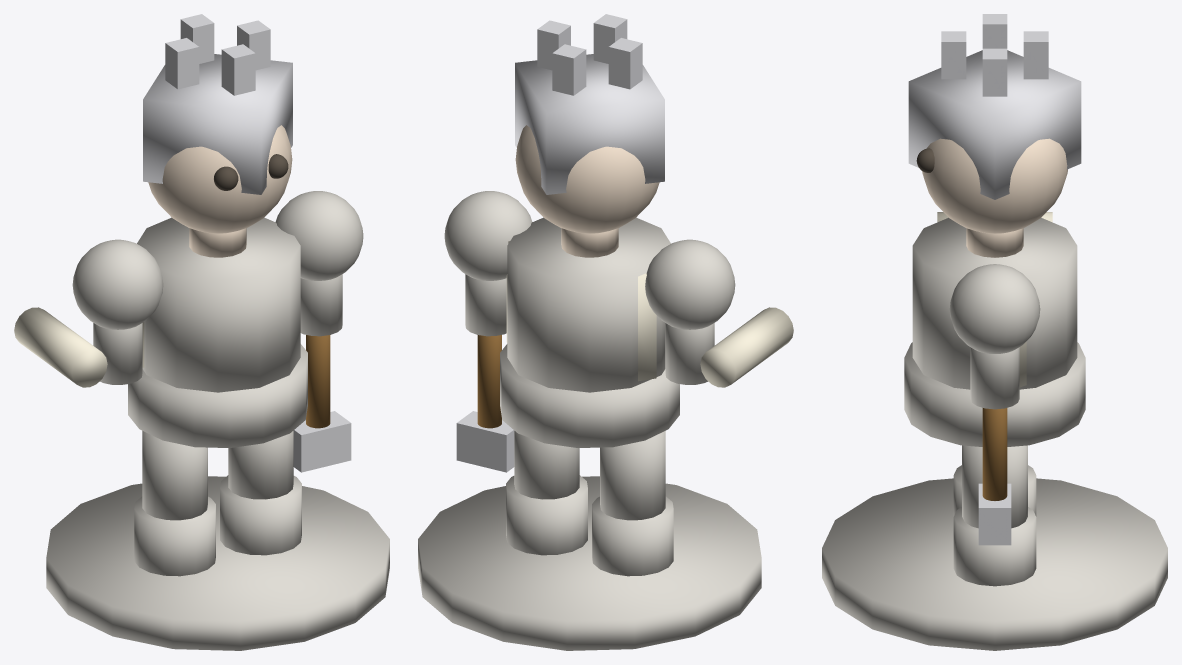
3 views of the same model, side by side, from view 1: azimuth 30°, elevation 25°; view 2: azimuth 150°, elevation 25°; view 3: azimuth 270°, elevation 25° (orthographic).
Visible parts, largest first — view 1: Rook; view 2: Rook; view 3: Rook.
Boxes of the visible parts, x1,y1,x2,y2 form: Rook: [14, 14, 389, 650]; Rook: [418, 14, 793, 650]; Rook: [822, 14, 1167, 650].
Bounding box in the file's own units: 0.91 × 1.45 × 0.84.
